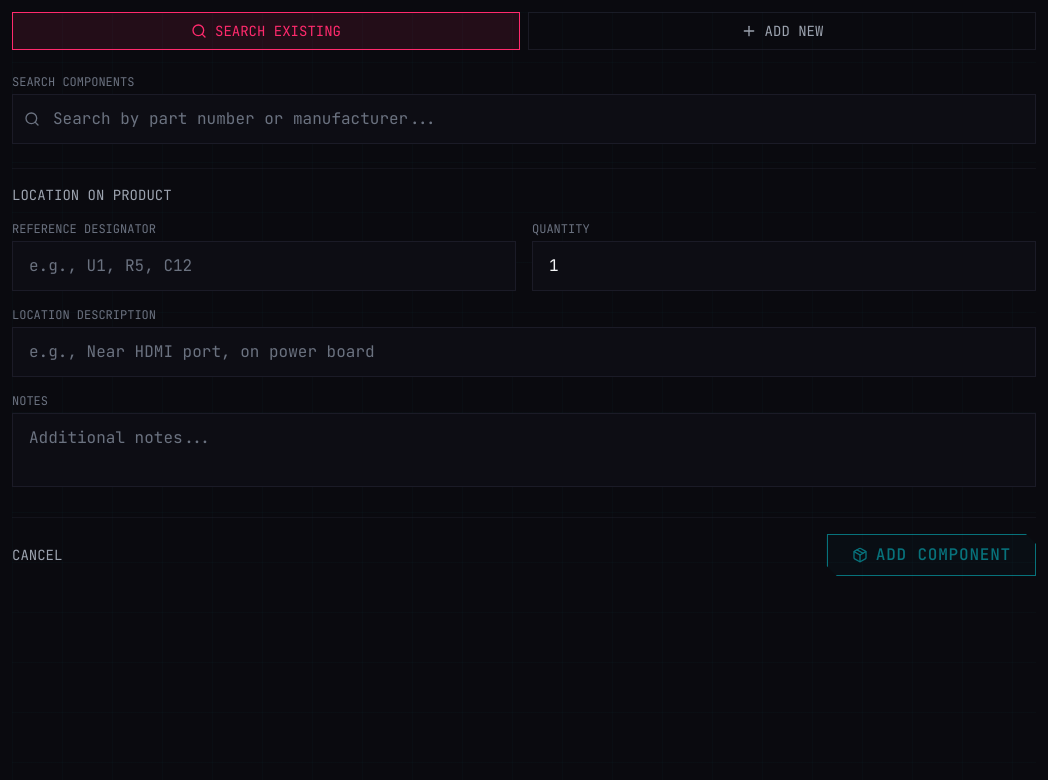
it: AddComponentForm › mode switching › switches back to search mode
// Switch to new mode
Click the button "ADD NEW" at (782, 31), box [528,12,1036,50]
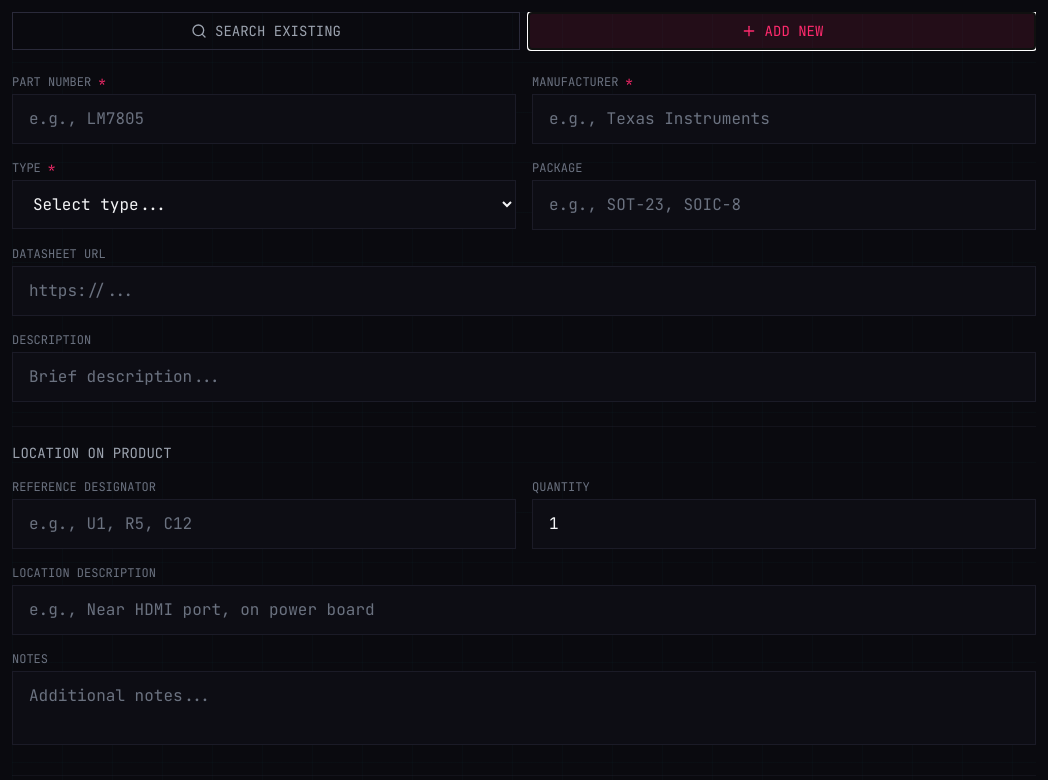
// Switch back to search mode
Click the button "SEARCH EXISTING" at (266, 31), box [12,12,520,50]
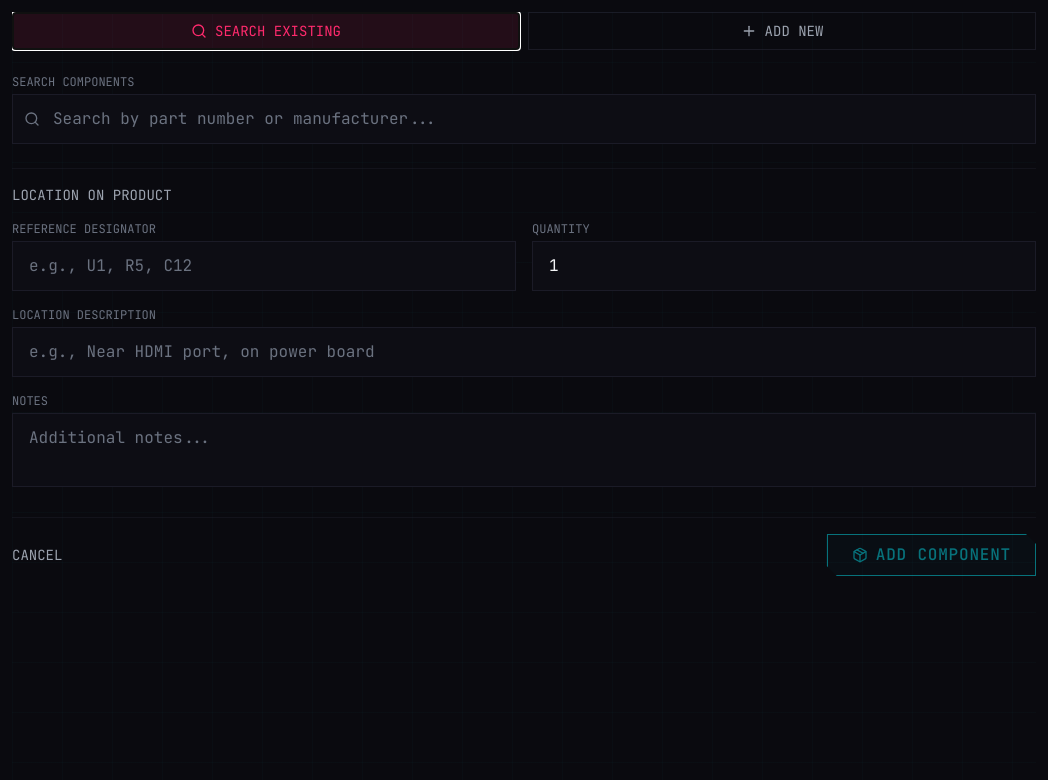
Expected: the field with placeholder "Search by part number or manufacturer..." is shown, [12,94,1036,144]
